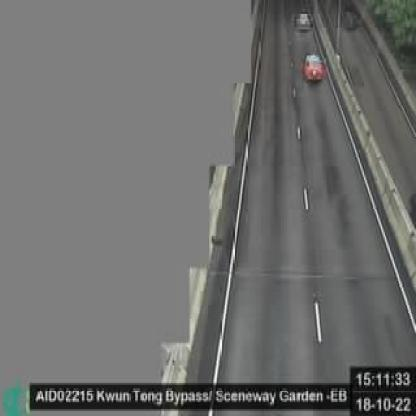Car: (302, 52, 326, 85), (297, 11, 312, 33)
